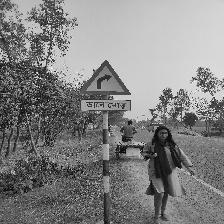Right-turn: (79, 61, 132, 112)
